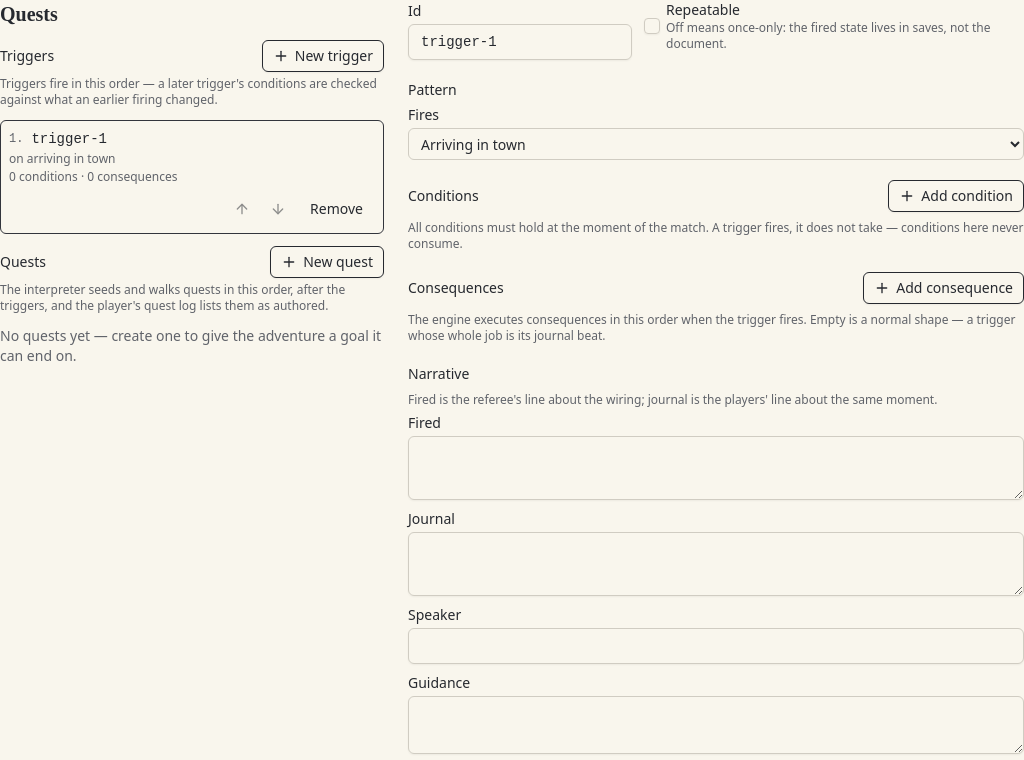
Test: a duplicate-id rejection renders inline in the create dialog — the rename prompt
This screenshot has width=1024, height=760.
Click the button "New trigger". click: (323, 56)
box: [262,40,384,72]
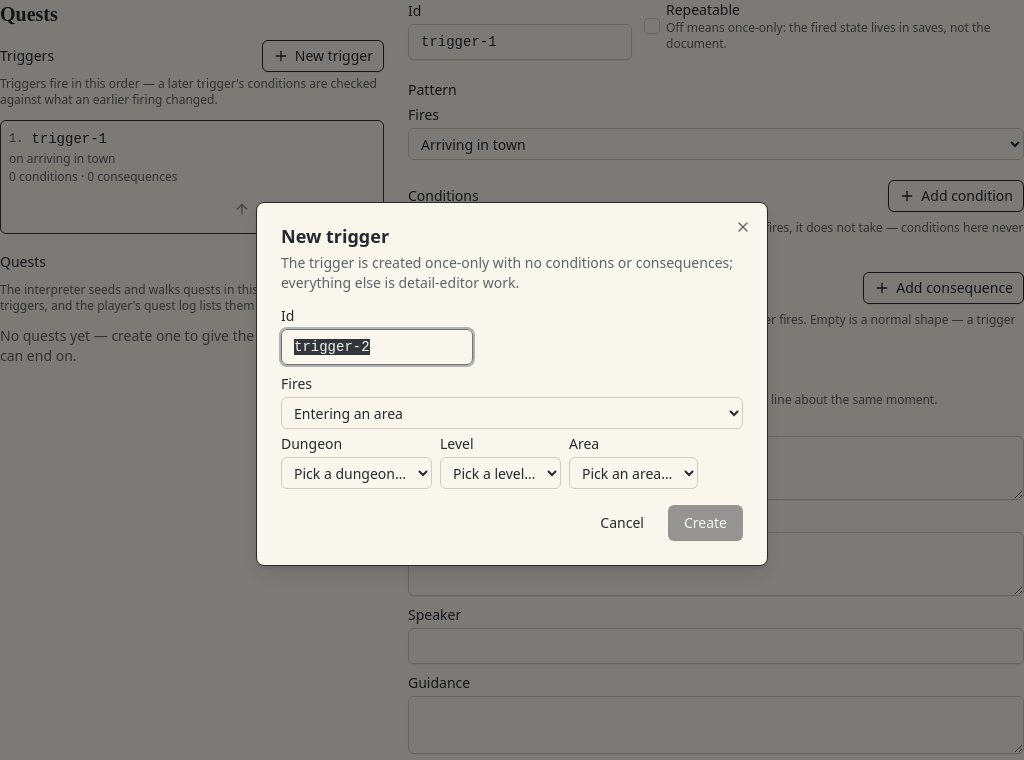
Replace the text in the field labelled "Id" with "trigger-1". click: (377, 347)
box: [281,329,473,365]
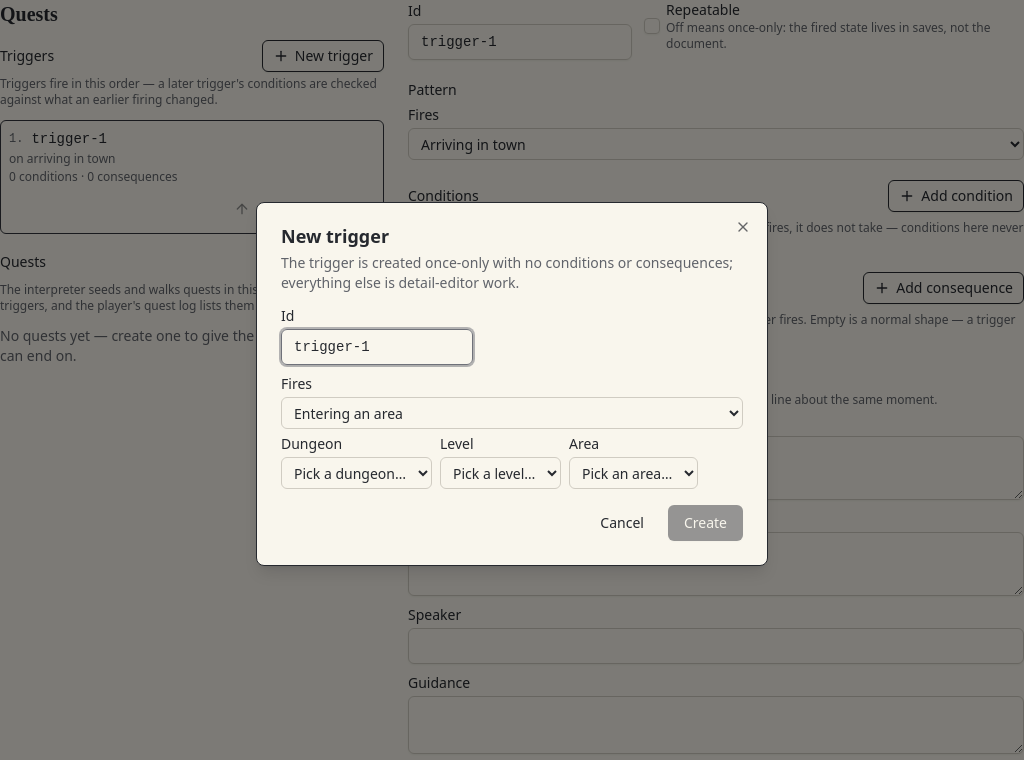
Select "Arriving in town" in the dropdown labelled "Fires". click: (512, 413)
box: [281,397,743,429]
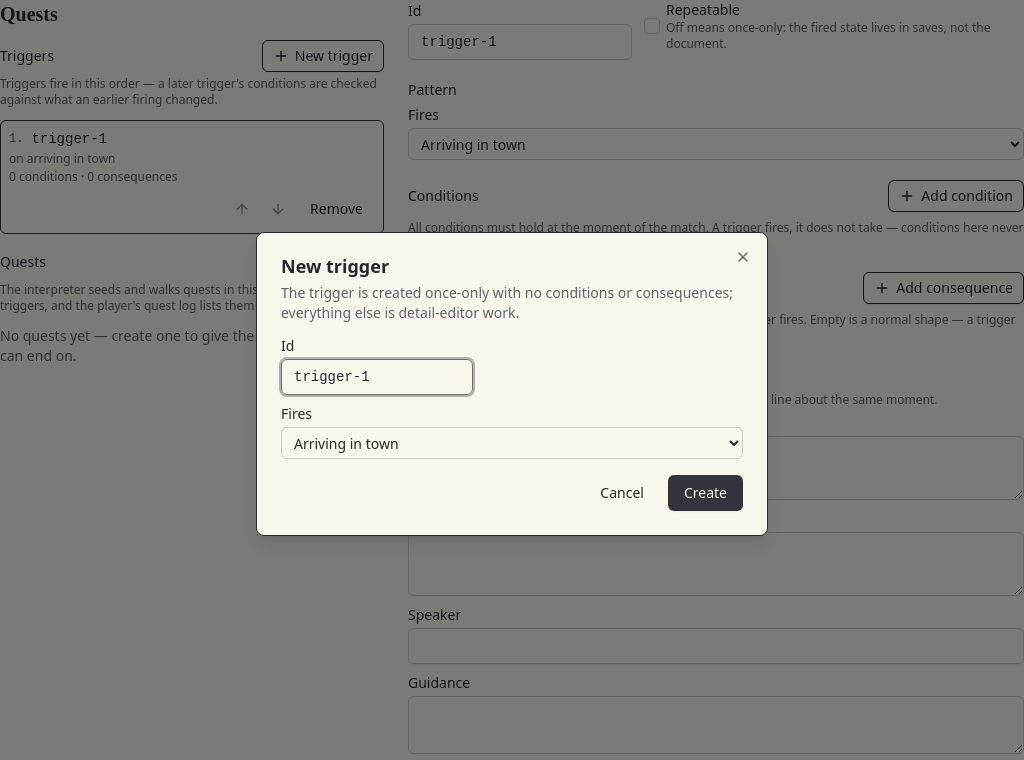
Click the button "Create". click: (705, 493)
box: [668,475,743,511]
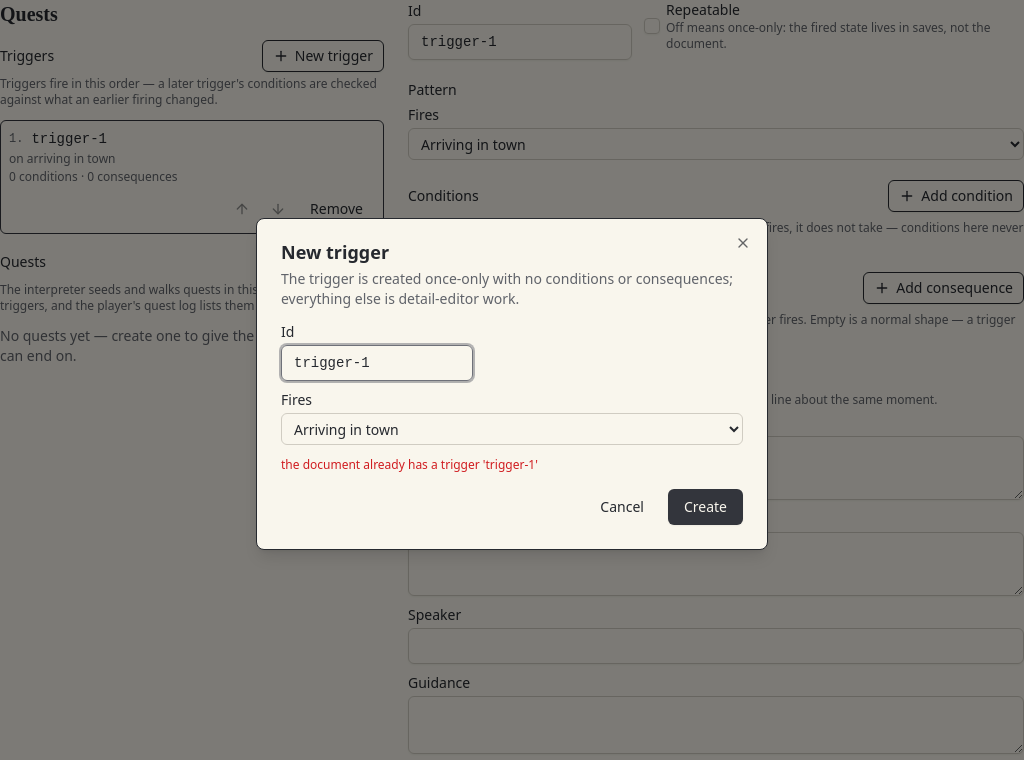
Expected: the button "Create" is shown, [668,489,743,525]
Expected: the text "the document already has a trigger 'trigger-1'" is shown, [281,456,538,473]
